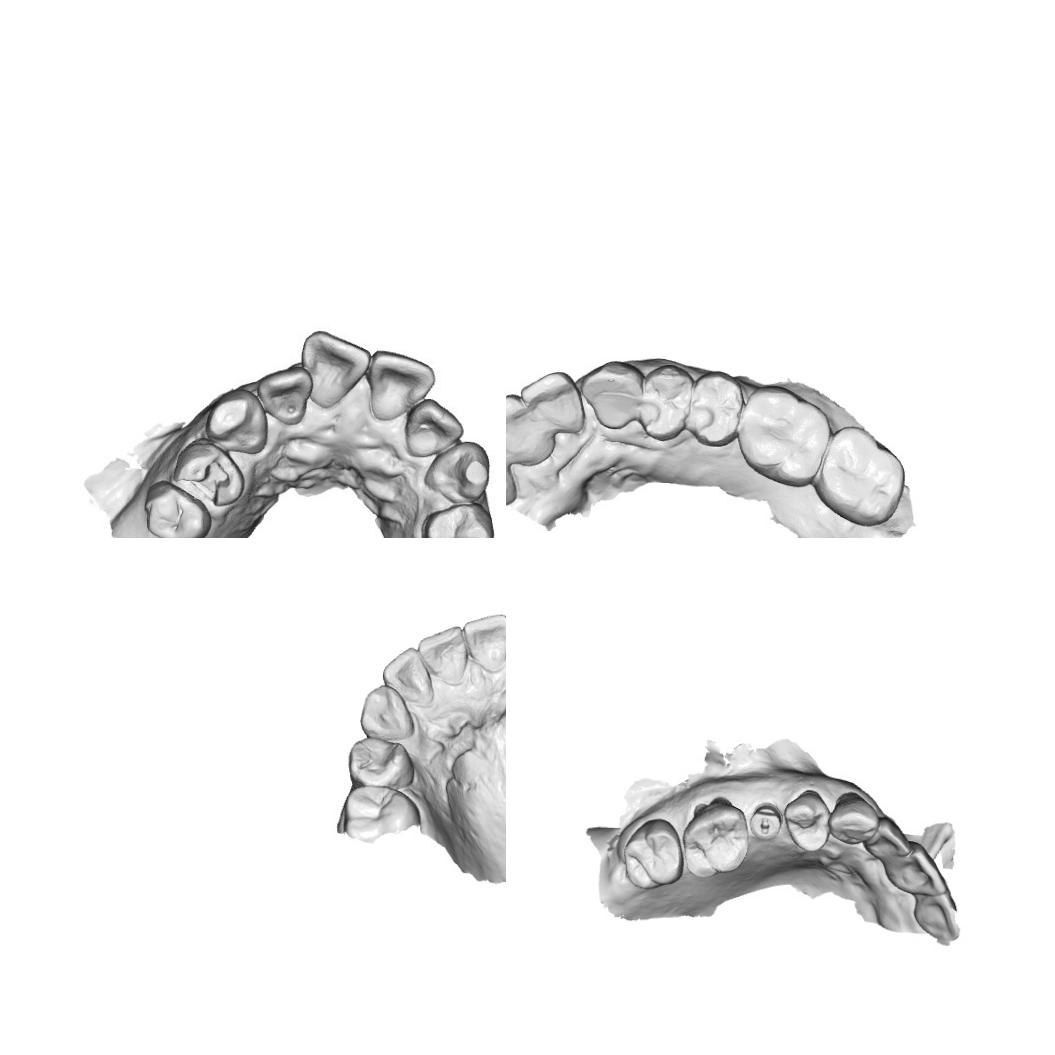canine: (203, 386, 269, 456), (580, 359, 643, 432), (422, 440, 490, 504), (359, 684, 416, 742), (826, 789, 879, 846)
implant_minus: (746, 802, 785, 843)
incisor: (299, 328, 370, 410), (364, 348, 436, 424), (516, 369, 585, 438), (402, 396, 465, 461), (506, 391, 557, 469), (886, 841, 953, 898), (254, 364, 314, 426), (416, 625, 468, 685), (381, 646, 433, 704), (908, 890, 961, 942), (461, 612, 506, 672), (862, 814, 912, 864)
inlay: (175, 458, 234, 506)
molar: (736, 382, 837, 488), (811, 423, 907, 529), (681, 798, 752, 880), (620, 816, 684, 892), (342, 783, 422, 842)
premolar: (139, 478, 213, 538), (638, 362, 692, 443), (687, 370, 743, 448), (348, 736, 416, 788), (780, 787, 830, 855), (419, 505, 496, 538)
